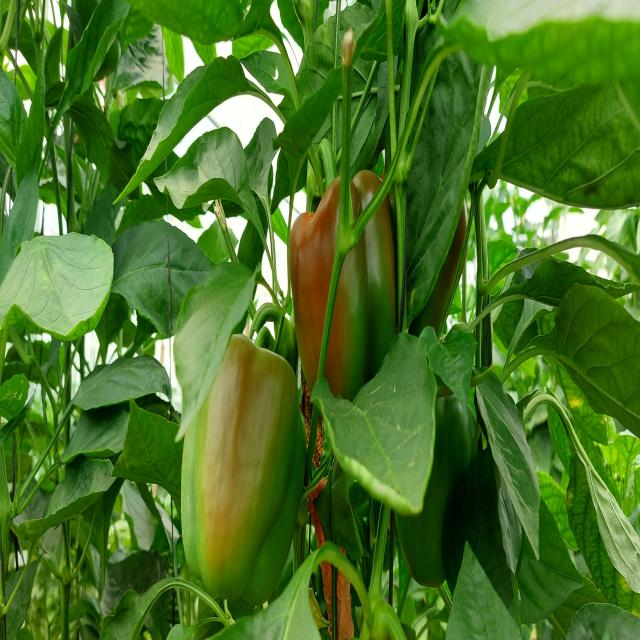BrownishRed--Can-be-Harvested: (187, 321, 304, 603), (285, 182, 401, 388)
